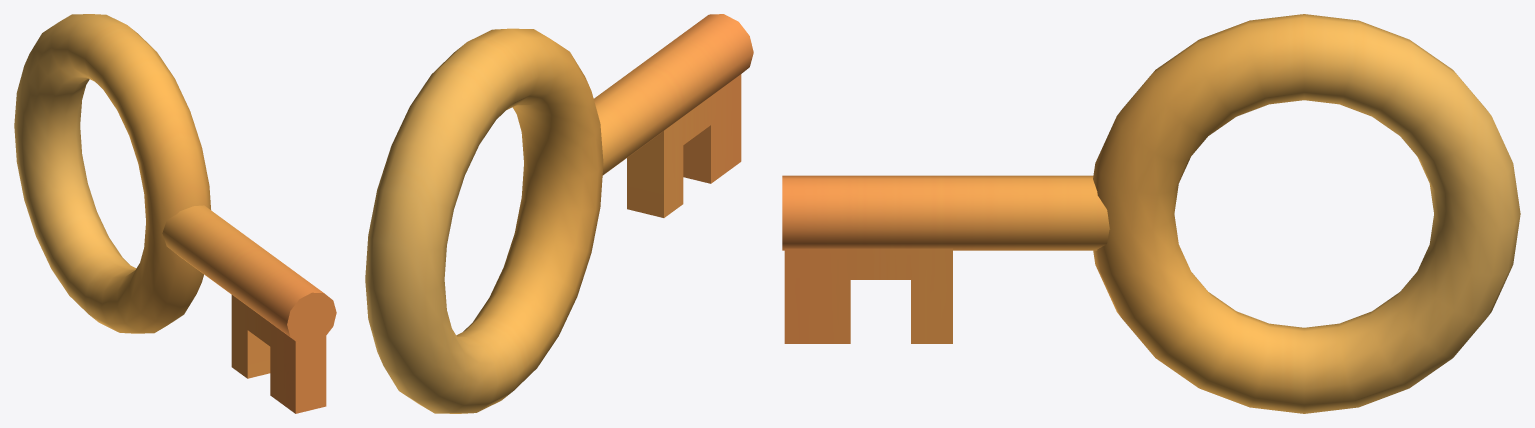
The model's file is key_item.fbx.
3 views of the same model, side by side, from view 1: azimuth 30°, elevation 25°; view 2: azimuth 150°, elevation 25°; view 3: azimuth 270°, elevation 25° (orthographic). The views are drawn at different scales.
Visible parts, largest first — view 1: key_item; view 2: key_item; view 3: key_item.
Boxes of the visible parts, x1=… form: key_item: x1=14, y1=14, x2=336, y2=413; key_item: x1=365, y1=14, x2=753, y2=413; key_item: x1=782, y1=14, x2=1520, y2=413.
Size of the model in its own units: 18.95 by 94.77 by 162.
